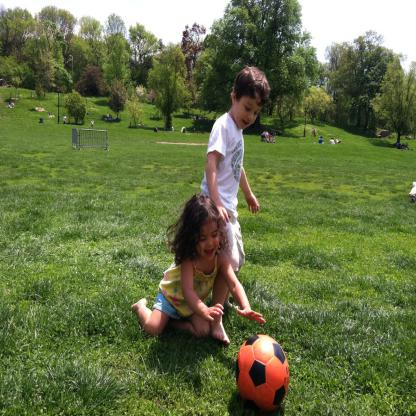Ball: (234, 335, 291, 407)
